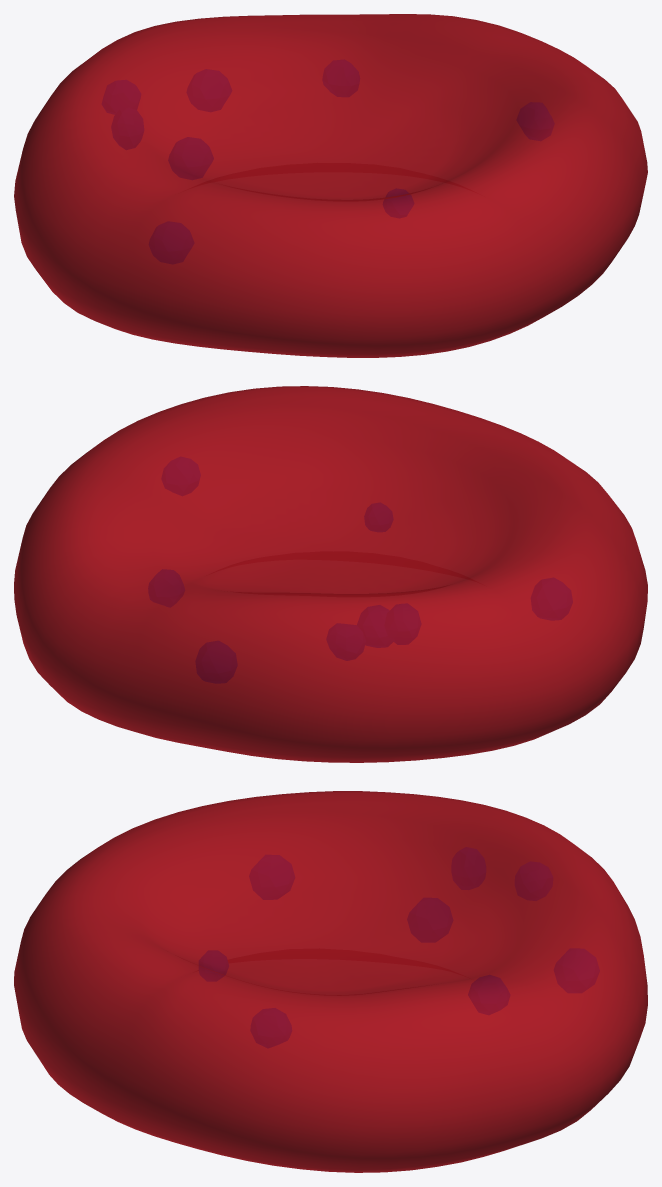
Rendered from siderocyte.glb.
3 views of the same model, one above another, from view 1: azimuth 30°, elevation 25°; view 2: azimuth 150°, elevation 25°; view 3: azimuth 270°, elevation 25° (orthographic). The views are drawn at different scales.
Visible parts, largest first — view 1: siderocyte; view 2: siderocyte; view 3: siderocyte.
Part boxes in pixels (box(x1,y1,x2,y2)): siderocyte: box(14, 14, 647, 357); siderocyte: box(14, 386, 647, 762); siderocyte: box(14, 791, 647, 1172).
Size of the model in its own units: 0.9433 by 0.2754 by 0.8937.
